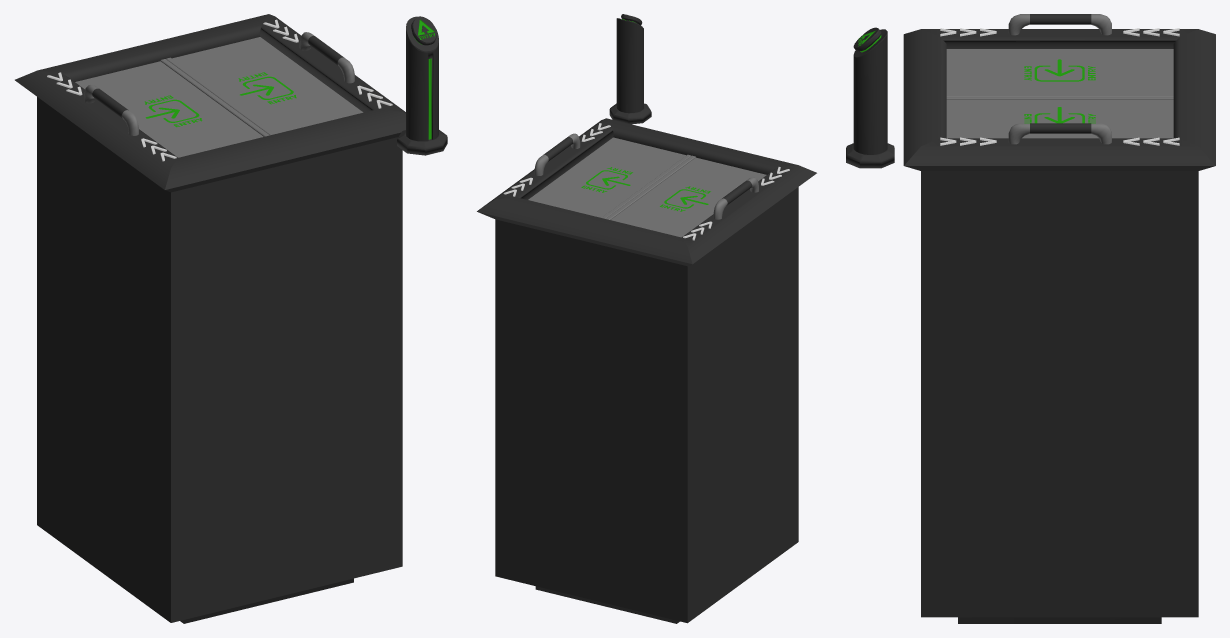
Rendered from elevator_entry.glb.
3 renders of one model, left to right at view 1: azimuth 30°, elevation 25°; view 2: azimuth 150°, elevation 25°; view 3: azimuth 270°, elevation 25°, orthographic. The views are drawn at different scales.
Parts seen in each view (by area): view 1: elevator_entry; view 2: elevator_entry; view 3: elevator_entry.
Part boxes in pixels (box(x1,y1,x2,y2)): elevator_entry: box(15, 14, 447, 623); elevator_entry: box(477, 14, 816, 623); elevator_entry: box(846, 14, 1215, 623).
Size of the model in its own units: 1.85 by 3.96 by 2.18.
3 materials, 2 textured.
